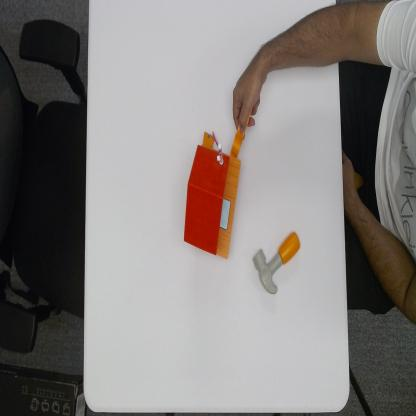Arm: (272, 1, 352, 74)
Hammer: (251, 231, 301, 296)
Hand: (231, 43, 272, 132)
House: (182, 128, 241, 264)
Screwdriver: (230, 123, 249, 159)
